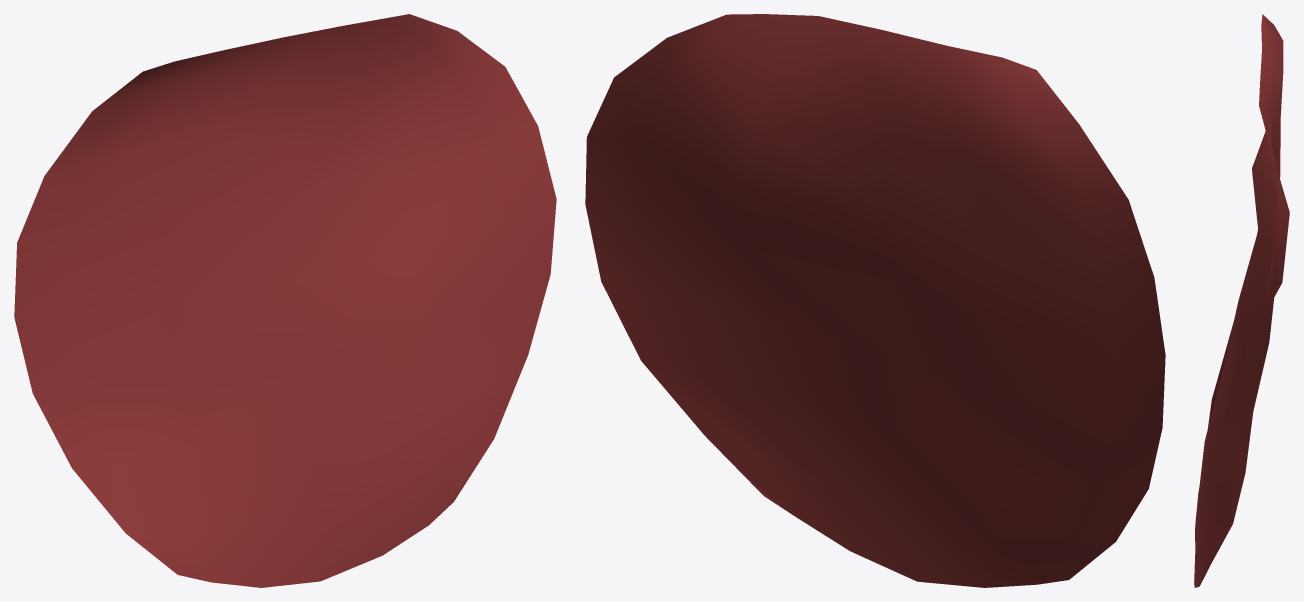
Rendered from deep-infrapatellar-bursa-r.glb.
3 views of the same model, side by side, from view 1: azimuth 30°, elevation 25°; view 2: azimuth 150°, elevation 25°; view 3: azimuth 270°, elevation 25° (orthographic). The views are drawn at different scales.
Parts seen in each view (by area): view 1: Deep infrapatellar bursa.r; view 2: Deep infrapatellar bursa.r; view 3: Deep infrapatellar bursa.r.
Part boxes in pixels (left/top/right/bottom): Deep infrapatellar bursa.r: left=14, top=14, right=556, bottom=587; Deep infrapatellar bursa.r: left=585, top=14, right=1165, bottom=587; Deep infrapatellar bursa.r: left=1194, top=14, right=1289, bottom=587.
Size of the model in its own units: 0.0176 by 0.0166 by 0.00293.
